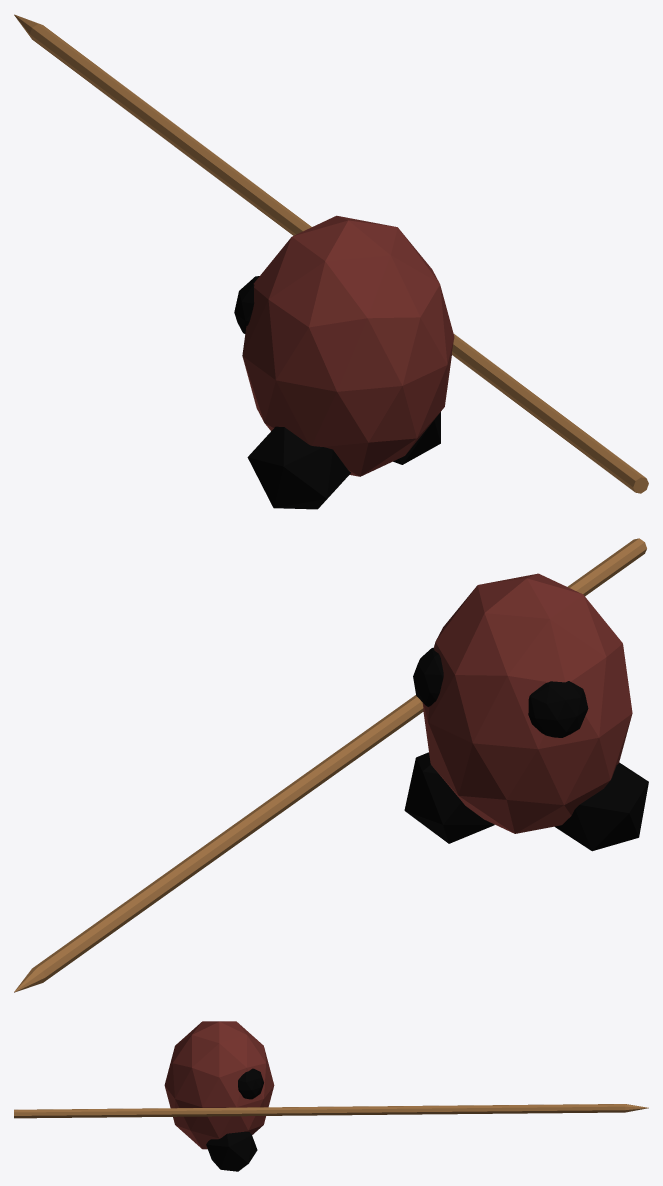
The model's file is walk.f0023.glb.
3 views of the same model, one above another, from view 1: azimuth 30°, elevation 25°; view 2: azimuth 150°, elevation 25°; view 3: azimuth 270°, elevation 25° (orthographic). The views are drawn at different scales.
Visible parts, largest first — view 1: Body.001; view 2: Body.001; view 3: Body.001.
Boxes of the visible parts, box(x1,y1,x2,y2) form: Body.001: box(14, 14, 648, 509); Body.001: box(14, 538, 648, 992); Body.001: box(14, 1021, 648, 1171).
Bounding box in the file's own units: 2.17 × 2.72 × 11.56.
Materials: 1 (1 with a texture image).
